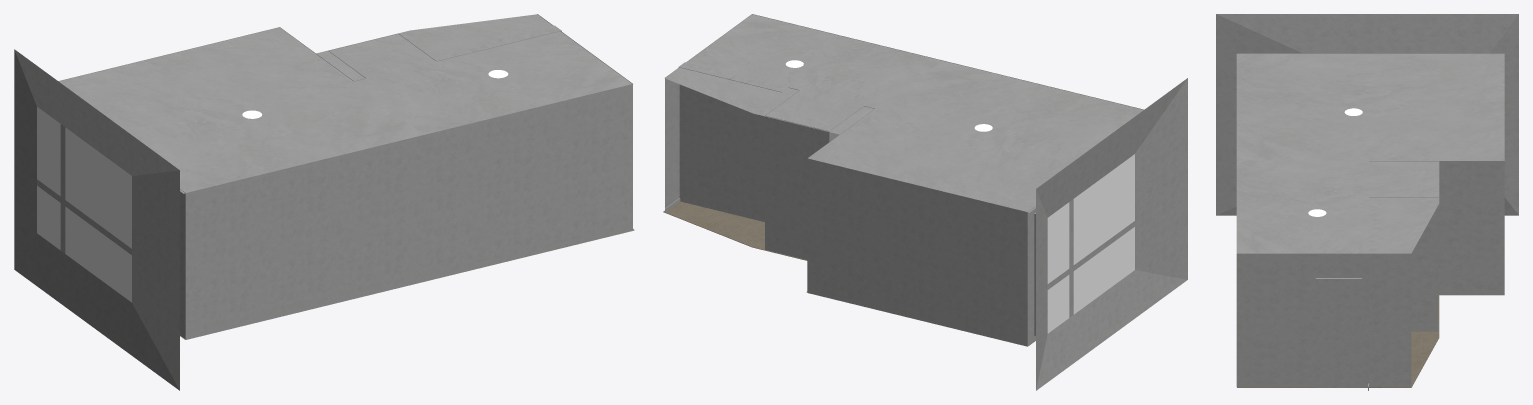
The model's file is room.gltf.
3 renders of one model, left to right at view 1: azimuth 30°, elevation 25°; view 2: azimuth 150°, elevation 25°; view 3: azimuth 270°, elevation 25°, orthographic. The views are drawn at different scales.
Visible parts, largest first — view 1: Main Room, Ceiling, Floor thing; view 2: Main Room, Ceiling, Floor Version 1, Floor thing; view 3: Main Room, Ceiling, Door, Floor Version 1, Floor thing.
Boxes of the visible parts, x1,y1,x2,y2 form: Main Room: (14, 14, 632, 390); Ceiling: (59, 14, 632, 193); Floor thing: (180, 226, 632, 339); Main Room: (665, 14, 1187, 390); Ceiling: (664, 14, 1143, 212); Floor Version 1: (663, 201, 807, 260); Floor thing: (665, 198, 1035, 346); Main Room: (1216, 14, 1518, 387); Ceiling: (1236, 53, 1504, 253); Door: (1315, 278, 1361, 387); Floor Version 1: (1237, 295, 1439, 387); Floor thing: (1236, 291, 1504, 390).
Bounding box in the file's own units: 11.5 × 5.14 × 7.
8 materials, 5 textured.
